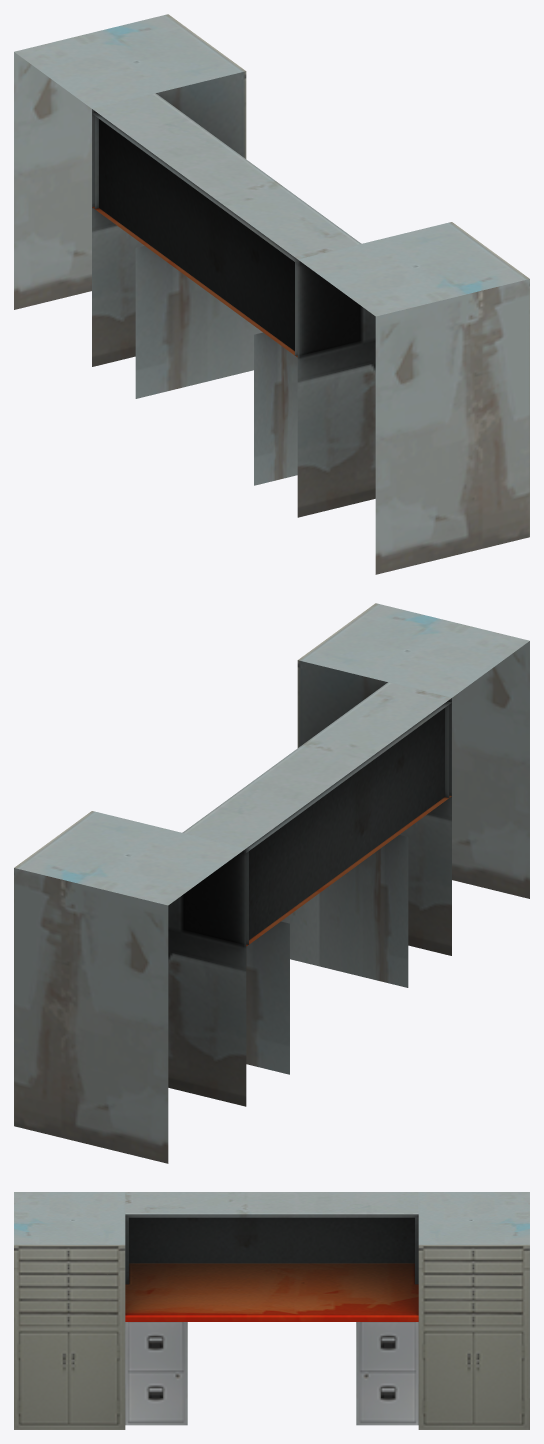
Rendered from Desk_3.fbx.
The picture shows the model from 3 angles, top to bottom: view 1: azimuth 30°, elevation 25°; view 2: azimuth 150°, elevation 25°; view 3: azimuth 270°, elevation 25°; orthographic projection. The views are drawn at different scales.
Visible parts, largest first — view 1: Desk_3; view 2: Desk_3; view 3: Desk_3.
Part boxes in pixels (box(x1,y1,x2,y2)): Desk_3: box(14, 14, 529, 574); Desk_3: box(14, 603, 529, 1163); Desk_3: box(14, 1192, 529, 1429).
Bounding box in the file's own units: 61.46 × 98.34 × 250.
